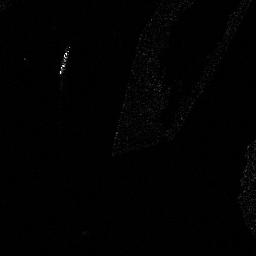ship: (57, 46, 71, 74)
